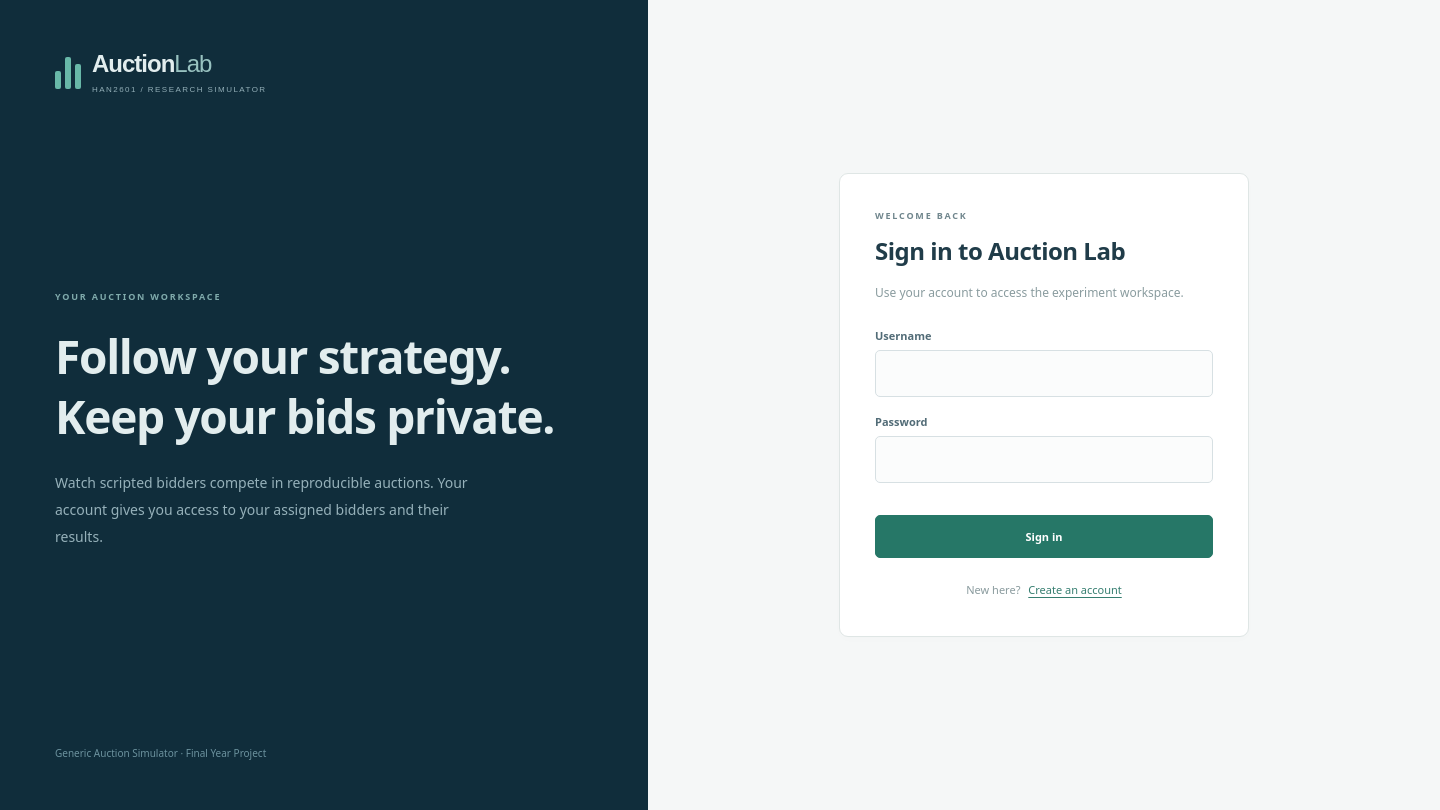
account sessions › logs in and restores the role from the server response
In the field labelled "Username": {"x": 1044, "y": 374} [875, 350, 1213, 397], type "researcher"
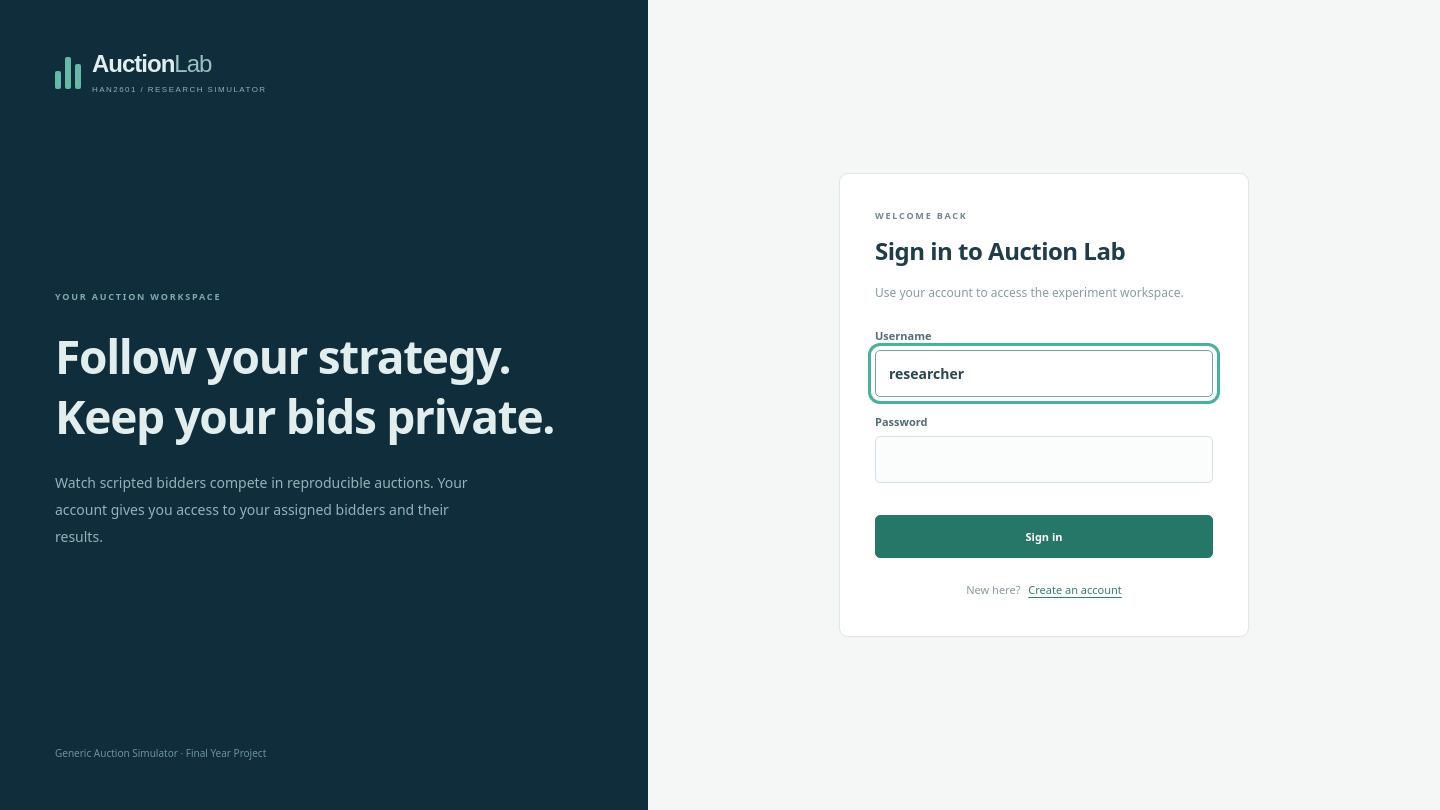
In the password field labelled "Password": {"x": 1044, "y": 460} [875, 436, 1213, 483], type "administrator-password"
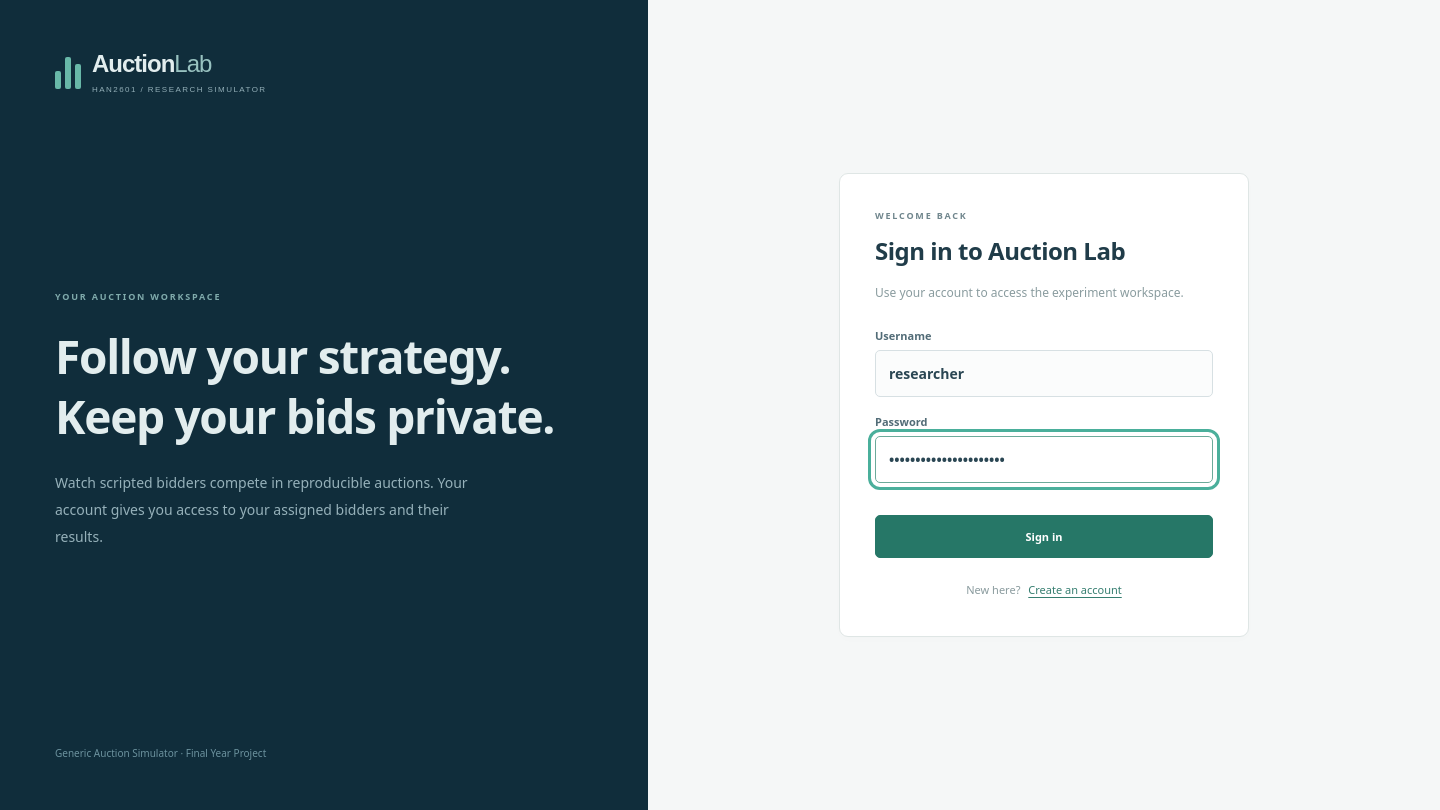
Click the button "Sign in": {"x": 1044, "y": 537} [875, 515, 1213, 558]
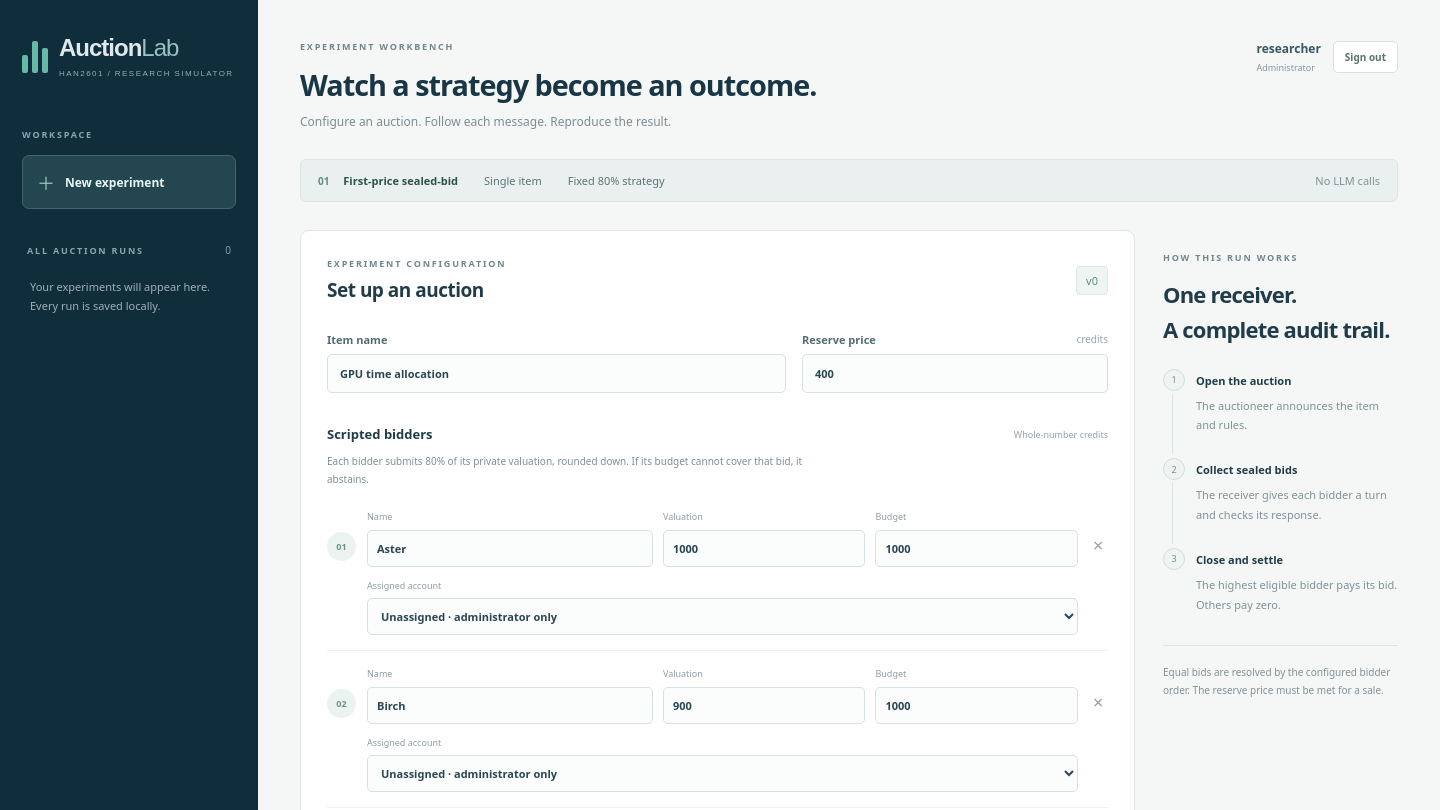
Expected: the text "Administrator" is shown, [1256, 61, 1321, 74]
